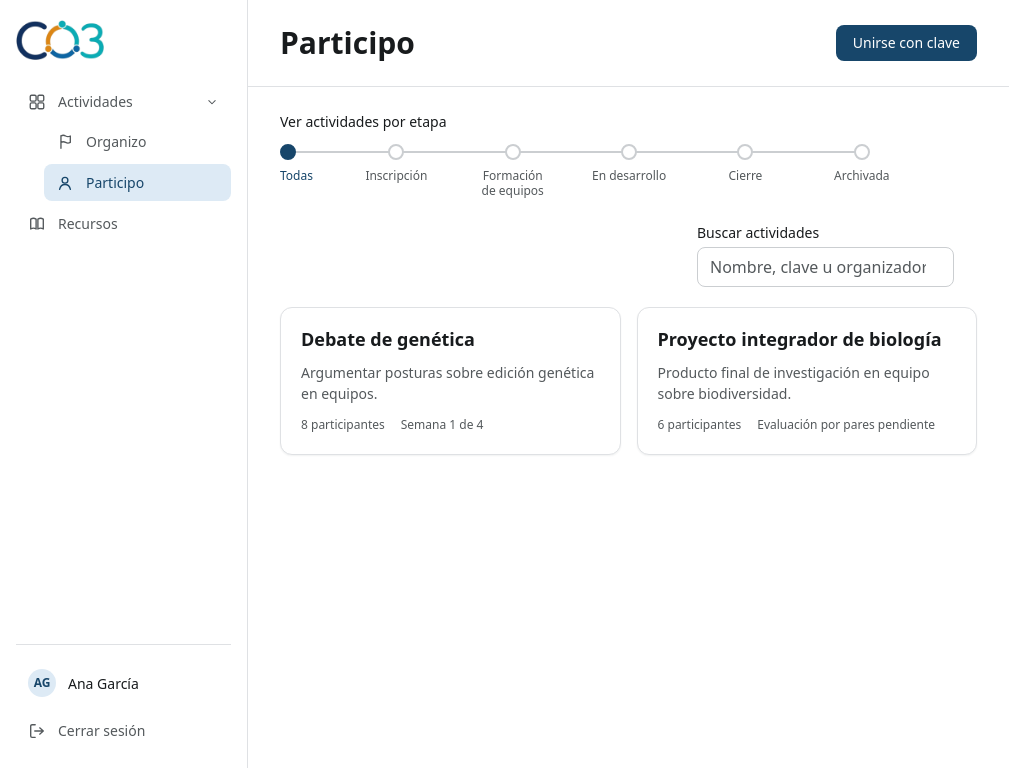
Scenario: PantallaMisActividades › rol="participo" › busca por nombre de quien organiza
This screenshot has width=1024, height=768.
Expected: the heading "Debate de genética" is shown, [301,326,475,350]
Type "sofía ramírez" into the search field labelled "Buscar actividades" at x=826, y=266, box [697,246,954,286]
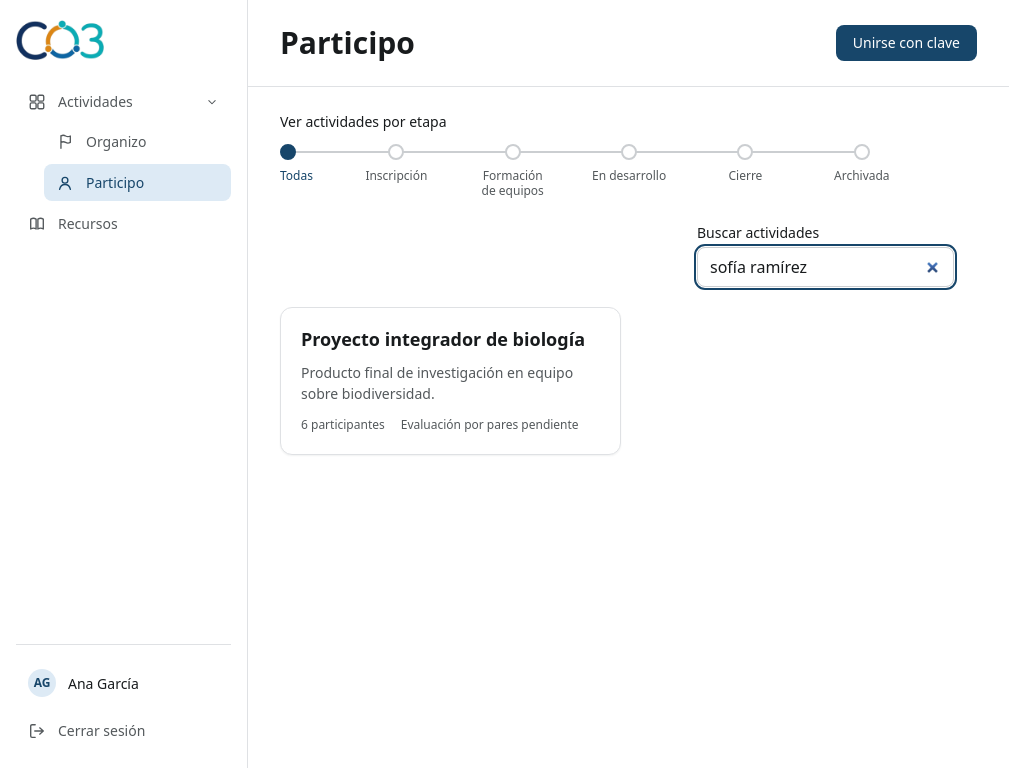
Expected: the heading "Proyecto integrador de biología" is shown, [301,328,600,350]
Now the link "Debate de genética" is gone
